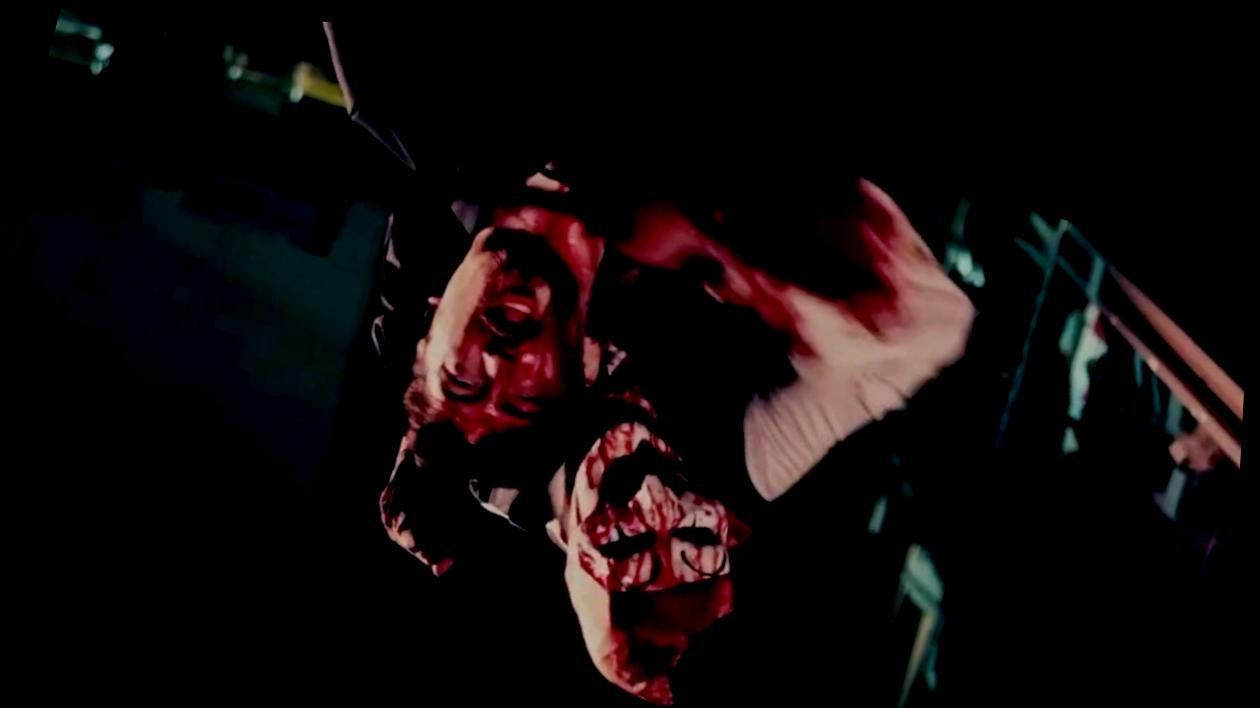Fire: (446, 166, 914, 695)
